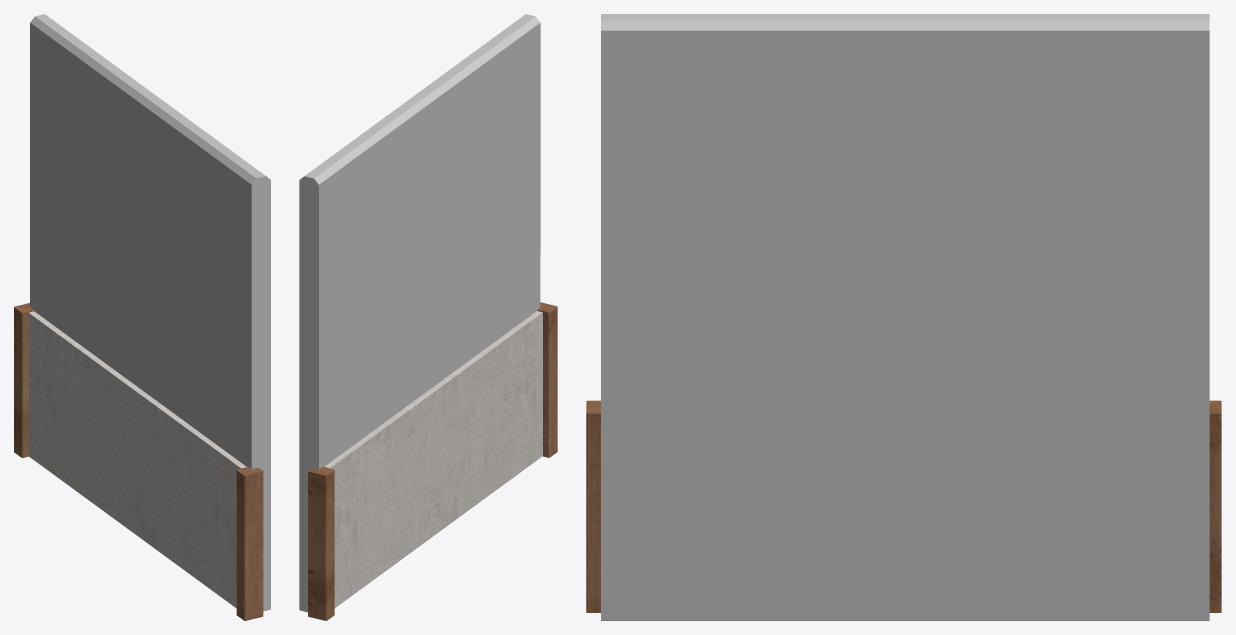
File: SM_HBJ_WallG.fbx
3 renders of one model, left to right at view 1: azimuth 30°, elevation 25°; view 2: azimuth 150°, elevation 25°; view 3: azimuth 270°, elevation 25°, orthographic. The views are drawn at different scales.
Parts seen in each view (by area): view 1: SM_HBJ_WallG_ConvexHulls, SM_HBJ_WallG; view 2: SM_HBJ_WallG_ConvexHulls, SM_HBJ_WallG; view 3: SM_HBJ_WallG_ConvexHulls, SM_HBJ_WallG.
Part boxes in pixels (bbox=[...]): SM_HBJ_WallG_ConvexHulls: bbox=[30, 14, 270, 611]; SM_HBJ_WallG: bbox=[14, 303, 263, 620]; SM_HBJ_WallG_ConvexHulls: bbox=[299, 14, 540, 612]; SM_HBJ_WallG: bbox=[308, 302, 557, 620]; SM_HBJ_WallG_ConvexHulls: bbox=[601, 14, 1209, 620]; SM_HBJ_WallG: bbox=[586, 400, 1221, 612].
Bounding box in the file's own units: 19.52 × 248 × 258.
2 materials, 1 textured.
